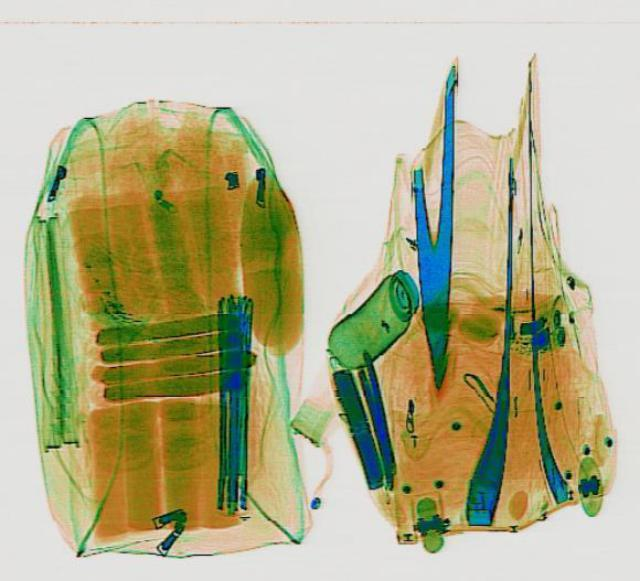Knife: (400, 64, 470, 387)
